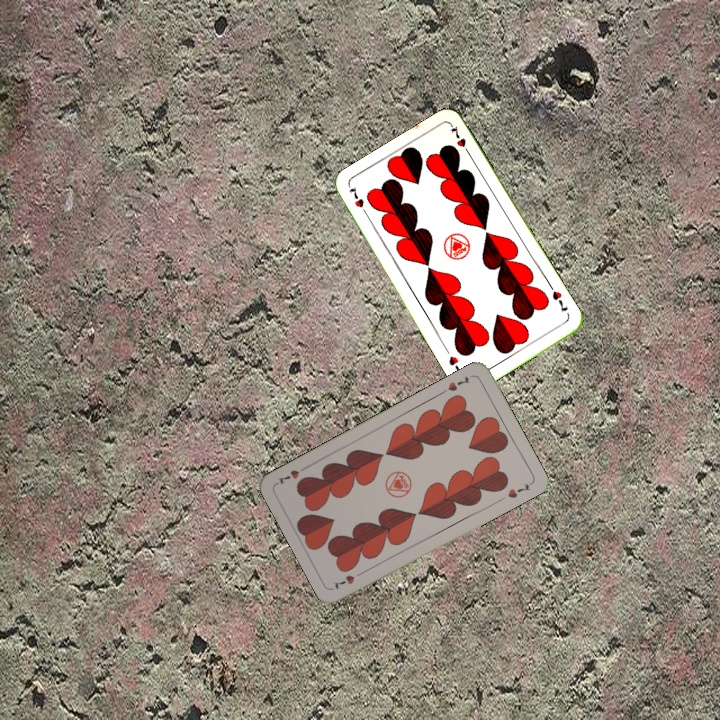H7: (345, 182, 371, 219), (329, 567, 367, 592), (444, 372, 473, 394), (548, 287, 571, 314)
